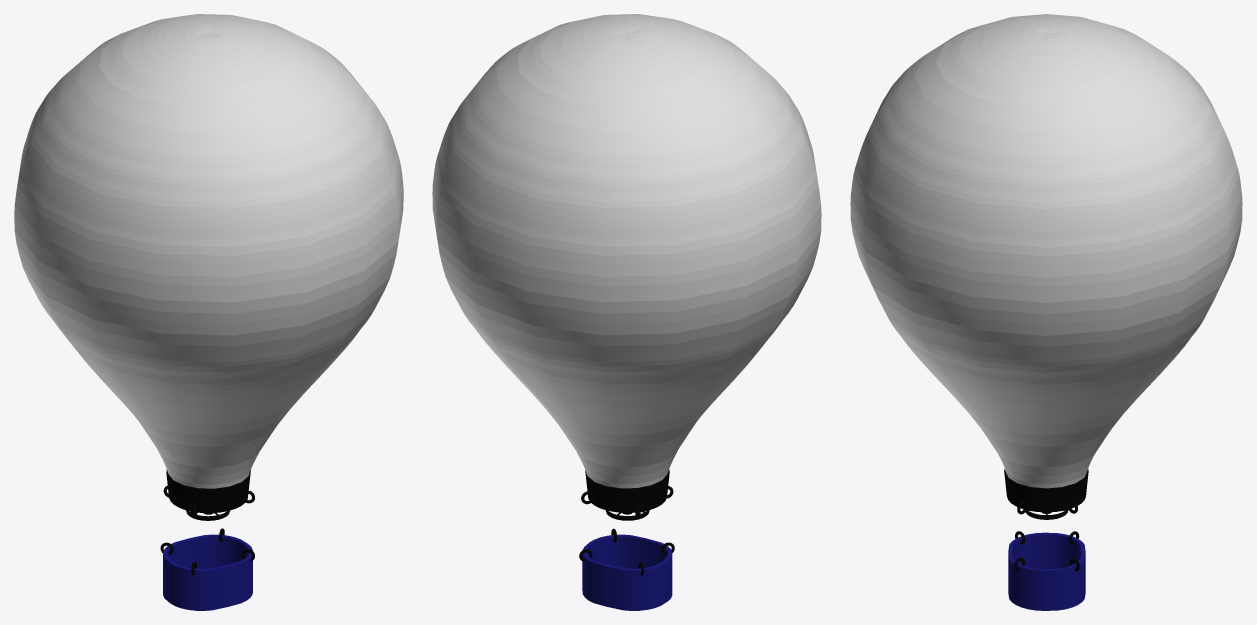
File: Balloon.fbx
3 views of the same model, side by side, from view 1: azimuth 30°, elevation 25°; view 2: azimuth 150°, elevation 25°; view 3: azimuth 270°, elevation 25° (orthographic).
Parts seen in each view (by area): view 1: Шар, Корзина, Кольцо шара; view 2: Шар, Корзина, Кольцо шара; view 3: Шар, Корзина, Кольцо шара.
Part boxes in pixels (bbox=[...]): Шар: bbox=[14, 14, 403, 488]; Корзина: bbox=[163, 534, 252, 610]; Кольцо шара: bbox=[166, 469, 250, 513]; Шар: bbox=[432, 14, 821, 488]; Корзина: bbox=[582, 534, 672, 610]; Кольцо шара: bbox=[585, 469, 669, 512]; Шар: bbox=[850, 14, 1242, 488]; Корзина: bbox=[1008, 532, 1085, 610]; Кольцо шара: bbox=[1004, 469, 1088, 512].
Size of the model in its own units: 48.49 by 76.23 by 48.49.
